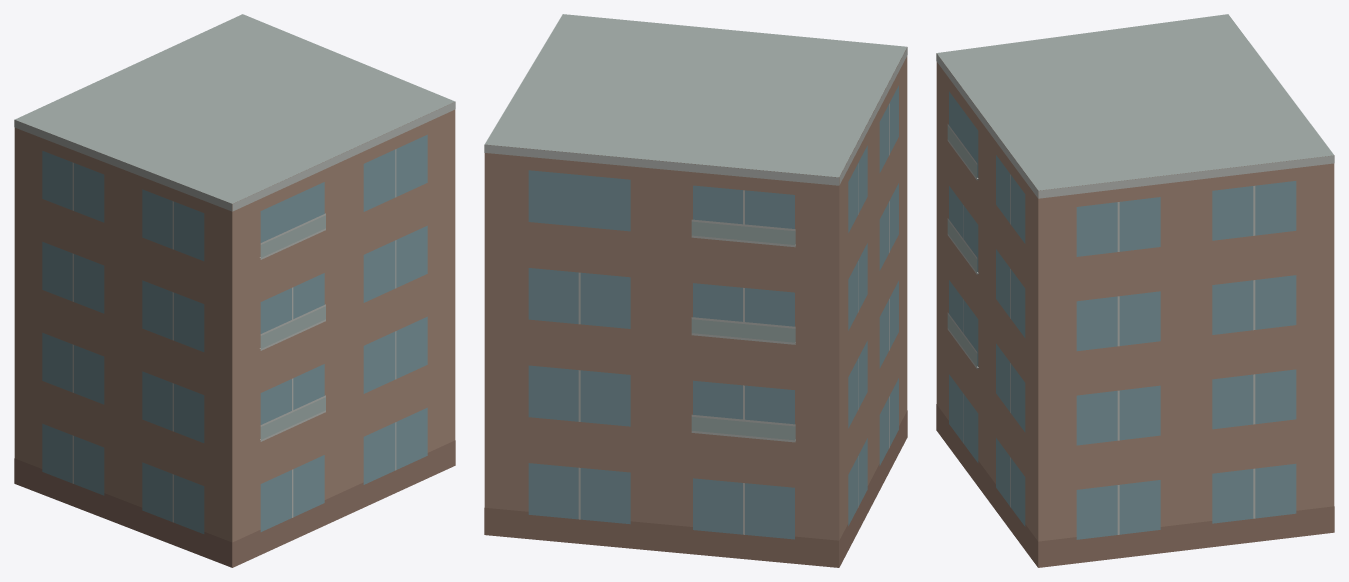
Rendered from survey-upis-32534027.glb.
The picture shows the model from 3 angles, left to right: view 1: azimuth 30°, elevation 25°; view 2: azimuth 150°, elevation 25°; view 3: azimuth 270°, elevation 25°; orthographic projection. The views are drawn at different scales.
Parts seen in each view (by area): view 1: survey-upis-32534027.tmp; view 2: survey-upis-32534027.tmp; view 3: survey-upis-32534027.tmp.
Boxes of the visible parts, bbox=[...] form: survey-upis-32534027.tmp: bbox=[14, 14, 455, 567]; survey-upis-32534027.tmp: bbox=[484, 14, 907, 567]; survey-upis-32534027.tmp: bbox=[936, 14, 1334, 567].
Size of the model in its own units: 11.46 by 11.4 by 10.91.
